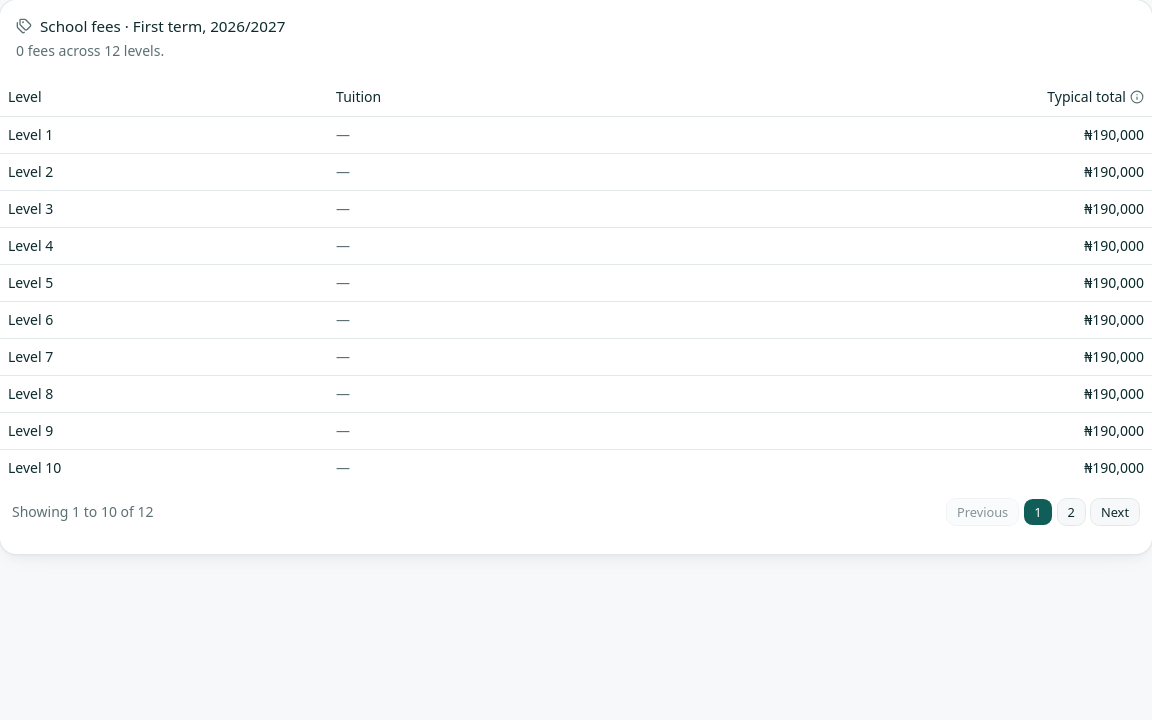
Test: FeeGridCard › pages the levels ten at a time
Expected: the text "Level 10" is shown, [0,450,328,486]
Expected: the text "Level 11" is not shown
Click the button named "Page 2".
click(1071, 512)  # box [1057,498,1086,526]
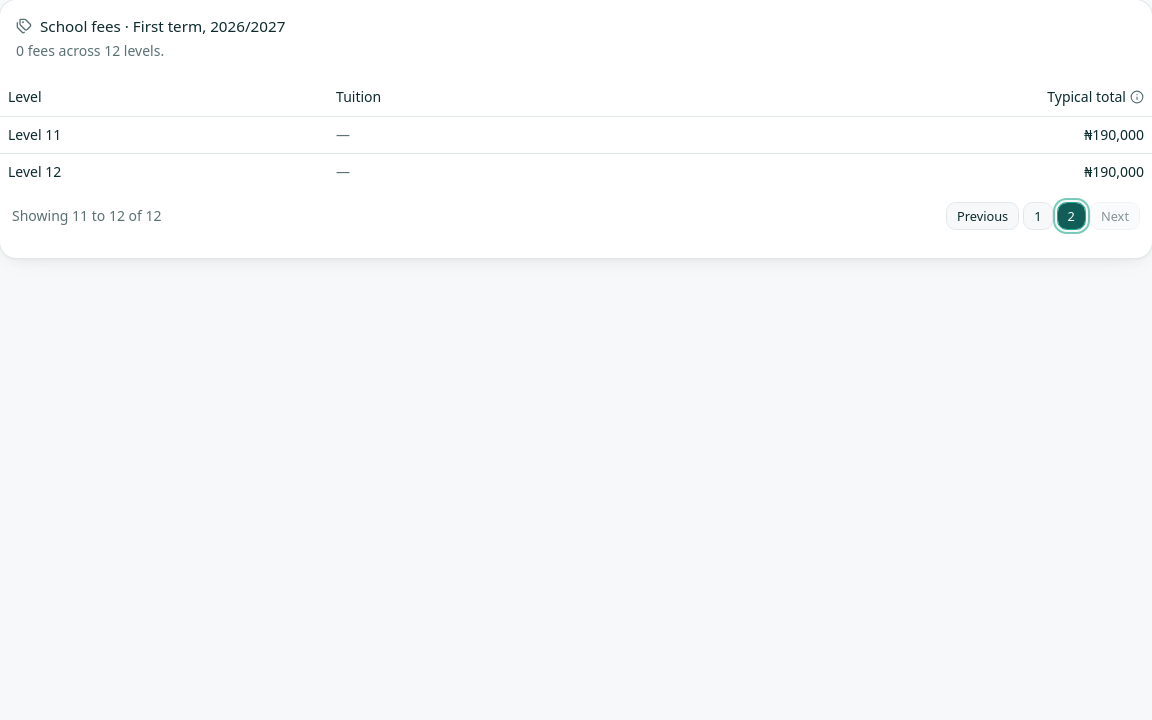
Result: the text "Level 11" is shown at [0,117,328,154]
